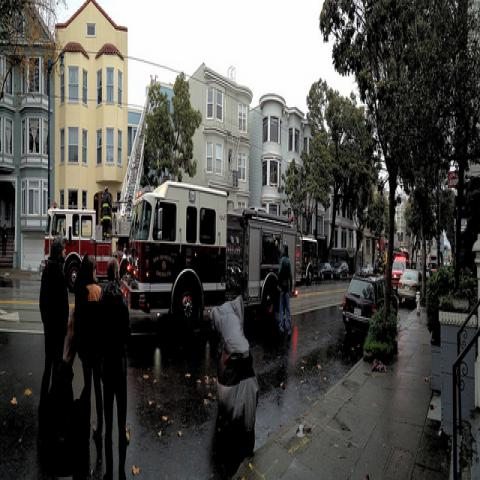car: (343, 276, 398, 326), (397, 269, 423, 302), (392, 252, 410, 294), (313, 262, 335, 281), (333, 261, 349, 280), (364, 264, 374, 276), (431, 261, 438, 276)
truck: (121, 181, 296, 335), (42, 200, 130, 288)
